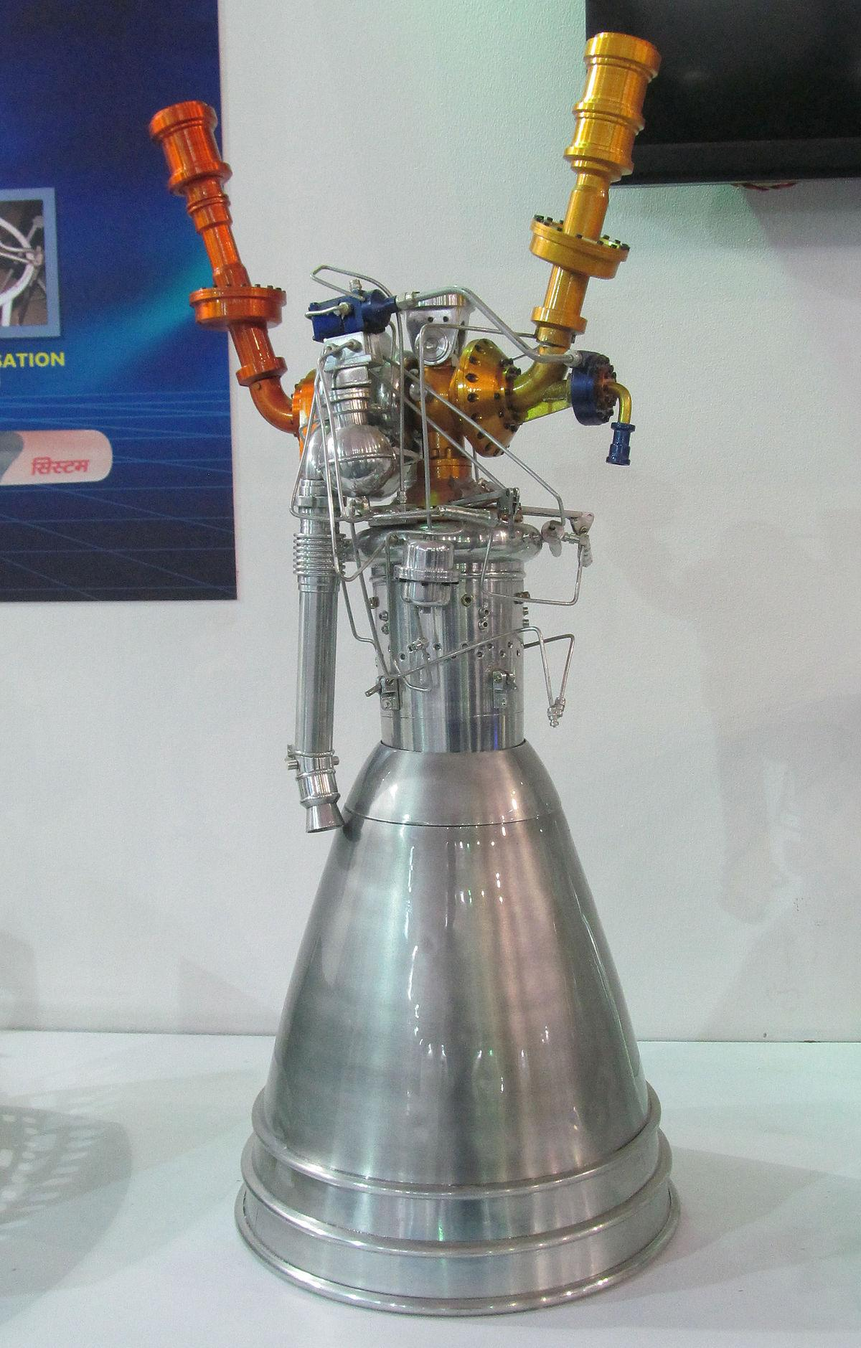thruster: (227, 750, 690, 1324)
